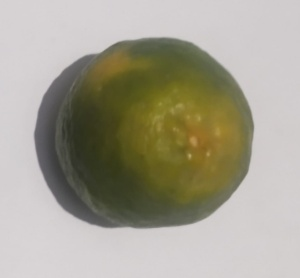BAD: (52, 31, 257, 229)
